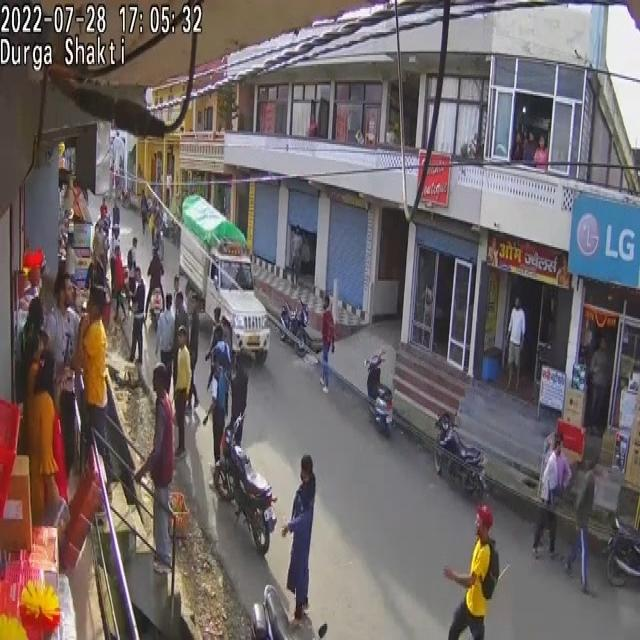fight: (0, 254, 114, 558), (74, 289, 136, 511), (24, 344, 62, 528), (46, 273, 80, 478)
non-fight: (88, 194, 176, 379), (134, 362, 174, 572), (442, 501, 496, 639), (280, 454, 316, 624), (563, 456, 596, 594), (532, 433, 565, 559), (207, 331, 232, 467), (173, 327, 193, 458), (155, 293, 176, 393), (504, 298, 526, 391), (127, 269, 147, 364), (183, 302, 200, 405), (230, 343, 248, 435), (542, 450, 572, 504), (320, 297, 335, 393), (110, 251, 126, 321), (140, 192, 149, 234)
